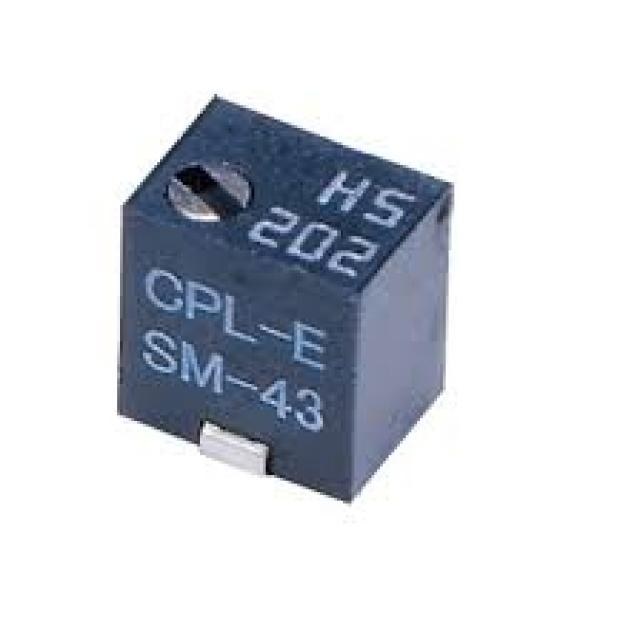potentiometer POT1: (114, 60, 452, 524)
